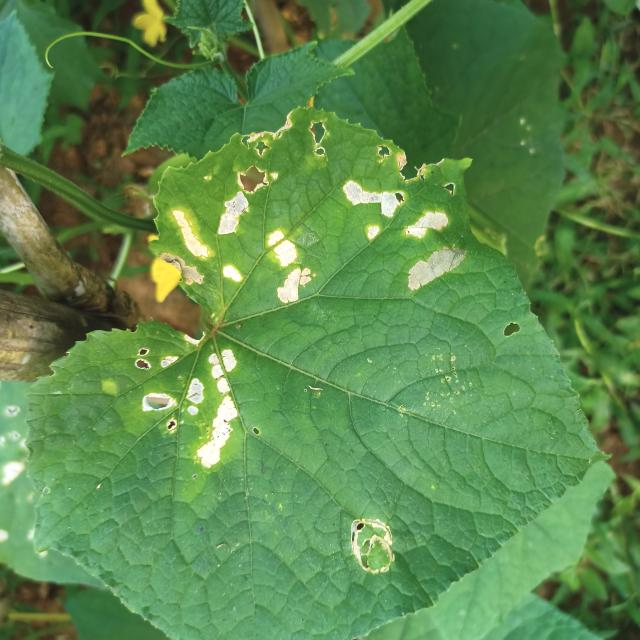disease_cucumber: (134, 328, 250, 470), (163, 171, 256, 308), (403, 208, 471, 295), (262, 223, 316, 306), (338, 177, 402, 240)
